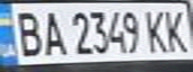2: (66, 7, 90, 56)
3: (87, 7, 109, 55)
4: (106, 7, 127, 55)
9: (121, 7, 145, 54)
A: (36, 7, 66, 57)
B: (6, 7, 45, 57)
K: (160, 6, 193, 54), (142, 7, 172, 54)
